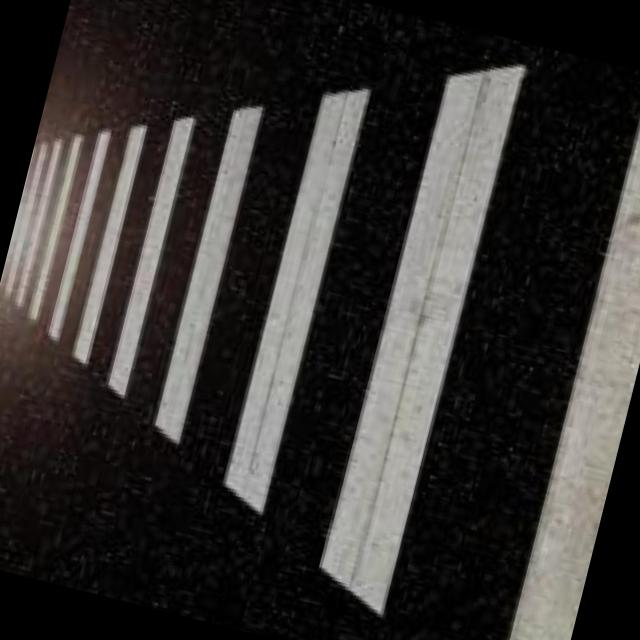zebra: (0, 45, 640, 640)
